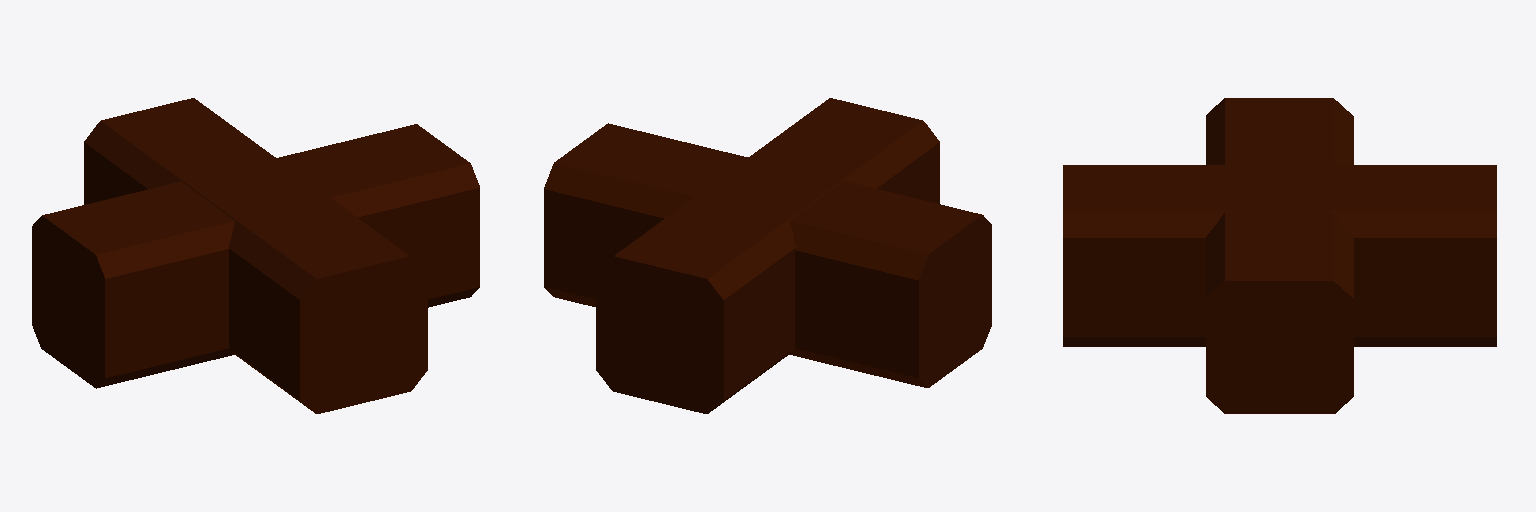
The model's file is wood.obj.
The picture shows the model from 3 angles: view 1: azimuth 30°, elevation 25°; view 2: azimuth 150°, elevation 25°; view 3: azimuth 270°, elevation 25°; orthographic projection.
Parts seen in each view (by area): view 1: Cube, Cube.001; view 2: Cube, Cube.001; view 3: Cube.001, Cube.
Part boxes in pixels (x1,y1,x2,y2): Cube: (32, 124, 479, 388); Cube.001: (84, 98, 427, 413); Cube: (544, 123, 991, 387); Cube.001: (596, 98, 939, 413); Cube.001: (1063, 165, 1496, 346); Cube: (1206, 98, 1353, 413).
Bounding box in the file's own units: 2.2 × 0.76 × 2.2.